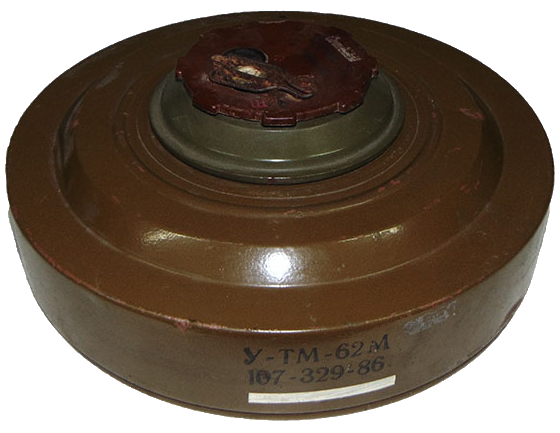car: (0, 0, 560, 432)
